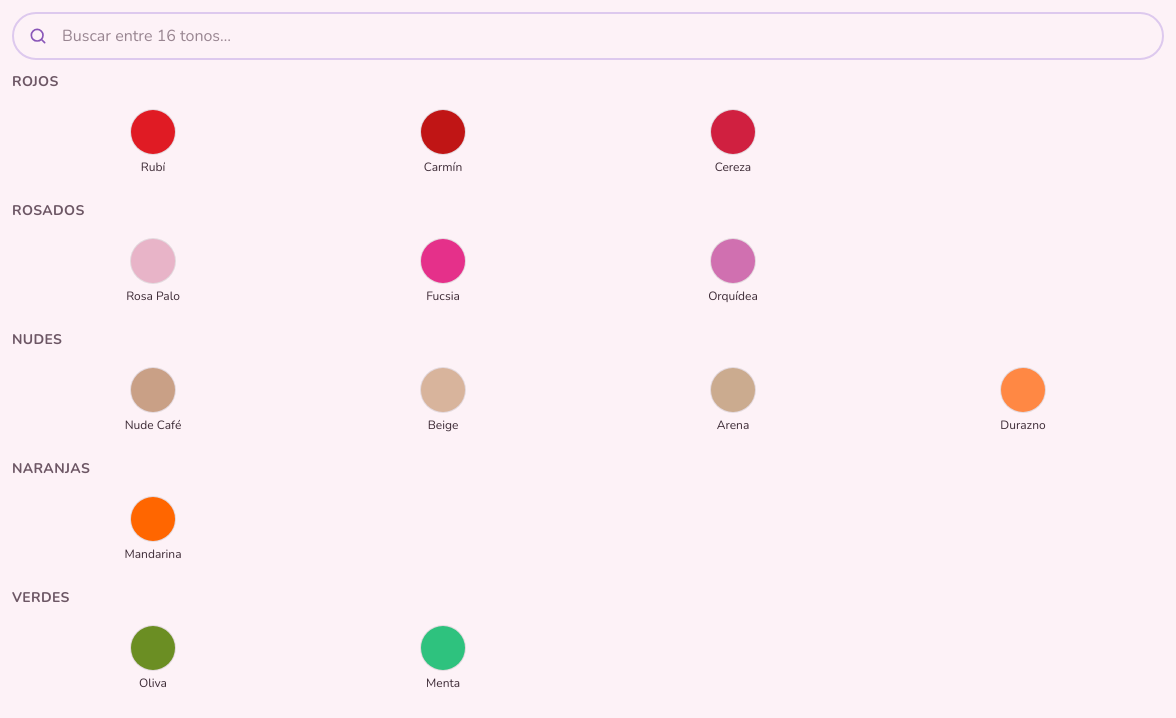
Test case: SelectorTonos › explica qué hacer cuando la búsqueda no encuentra nada
This screenshot has width=1176, height=718.
In the search field: (588, 36) [12, 12, 1164, 60], type "turquesa"
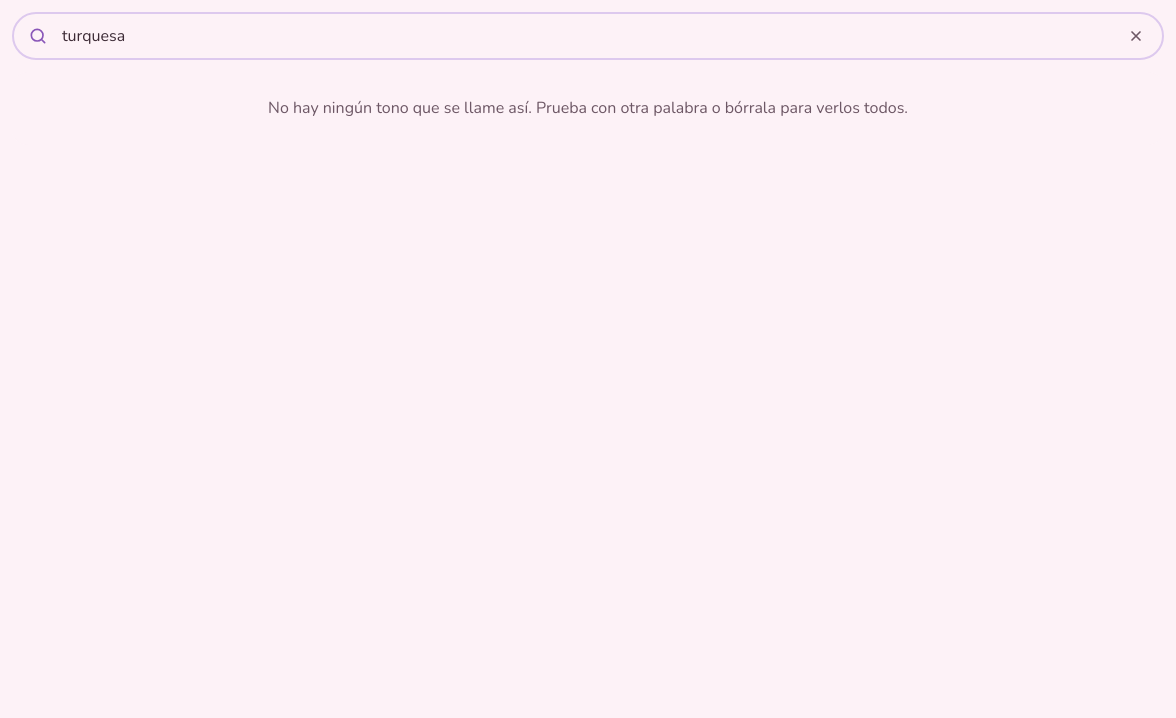
Check: the text "No hay ningún tono que se llame así" is shown, box [268, 97, 908, 119]
Check: no radio buttons are shown
